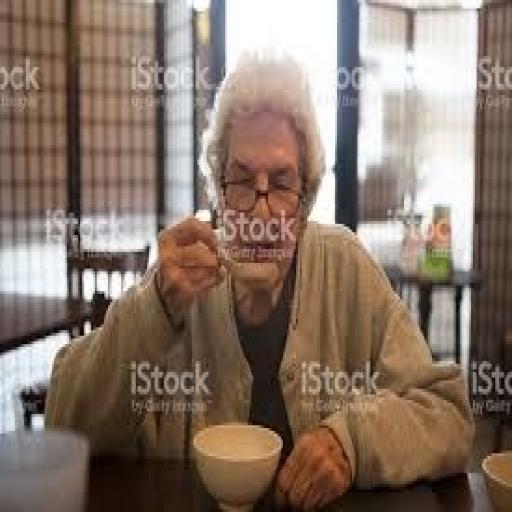drinking: (41, 42, 475, 509), (190, 420, 283, 509)
